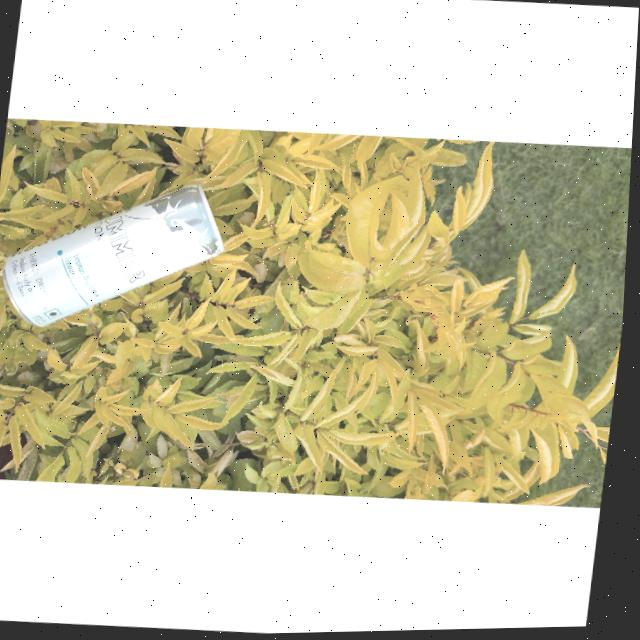Redbull Summer Edition: (0, 165, 232, 342)
